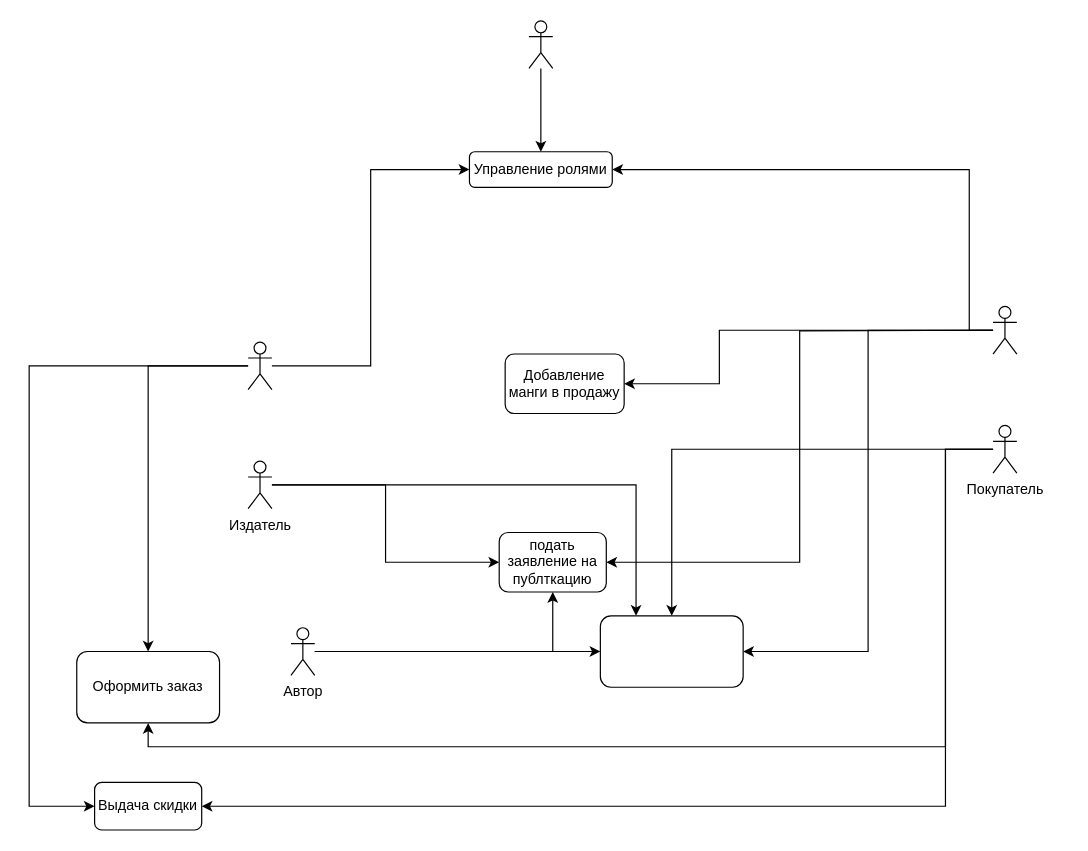
Image size: 1088x851. Some labels were removed from this diagram. Here are the shapes that lost their labels. From the top down, the centre of each, then its label:
pixel 540 44: Глобальный админ
pixel 1004 329: Админ публикаций
pixel 259 365: Админ продажи
pixel 671 651: редактирование страницы профиля
